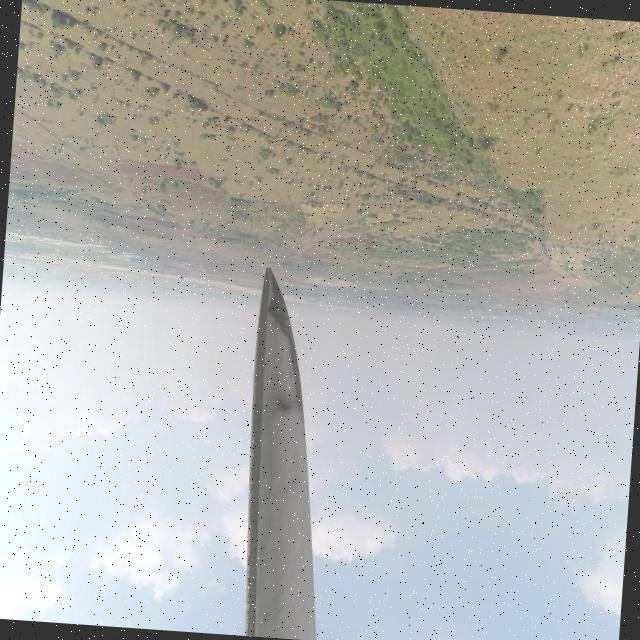Dirt: (250, 262, 318, 640)
Oil LEAKAGE: (266, 264, 307, 416)
